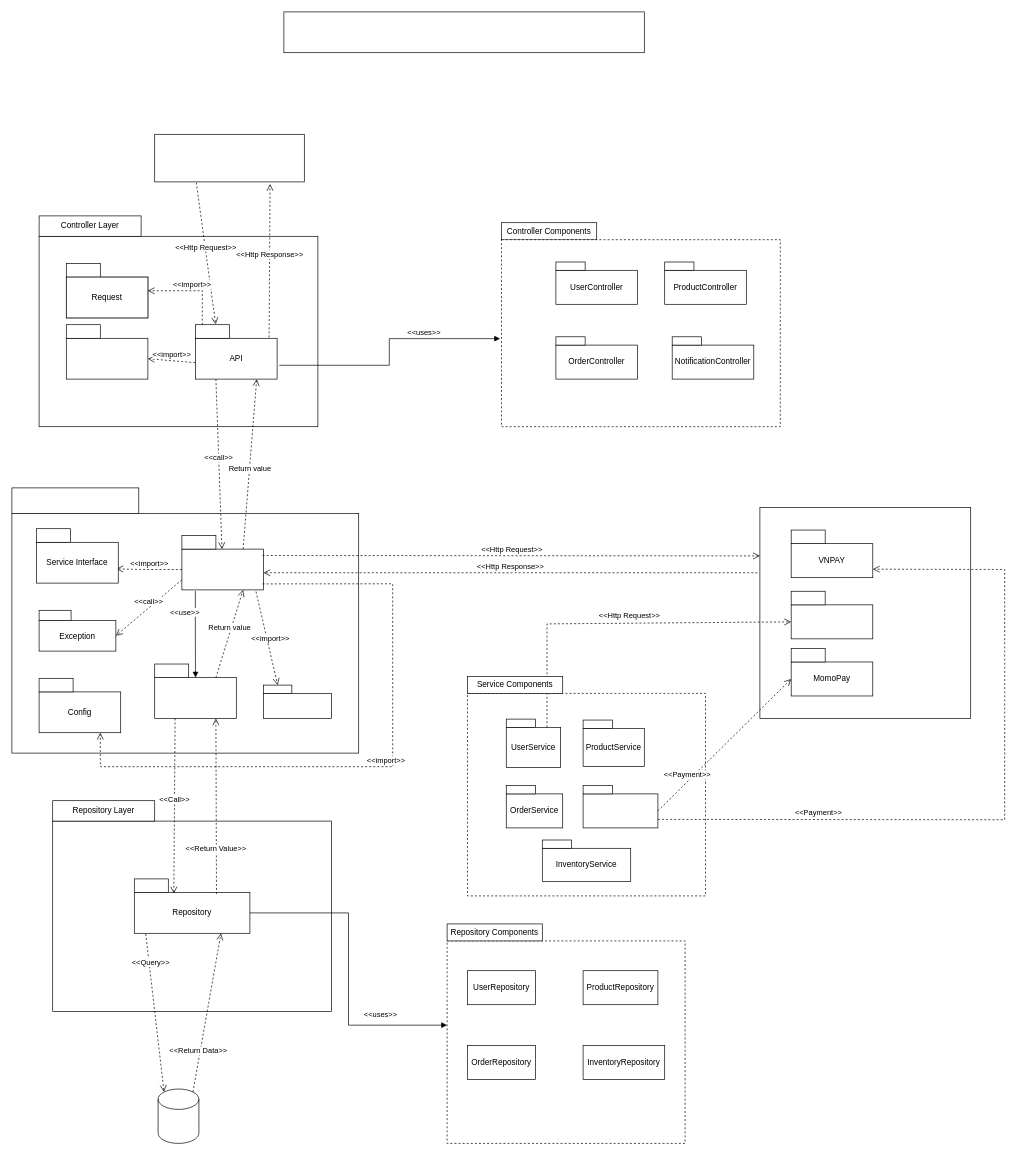
Some shapes in this 1023 by 1155 pixel diagram are drawn without their labels. Each missing label, with the box of its shape:
Database: (157, 1088, 199, 1143)
Firebase: (790, 604, 873, 639)
Model: (154, 677, 236, 718)
NotificationService: (582, 793, 658, 828)
Response: (66, 338, 148, 379)
Service Implement: (181, 548, 264, 590)
Service Layer: (11, 487, 139, 514)
TechNihongo: (283, 11, 644, 53)
Utils: (263, 693, 332, 718)
Web Application: (154, 134, 304, 182)
